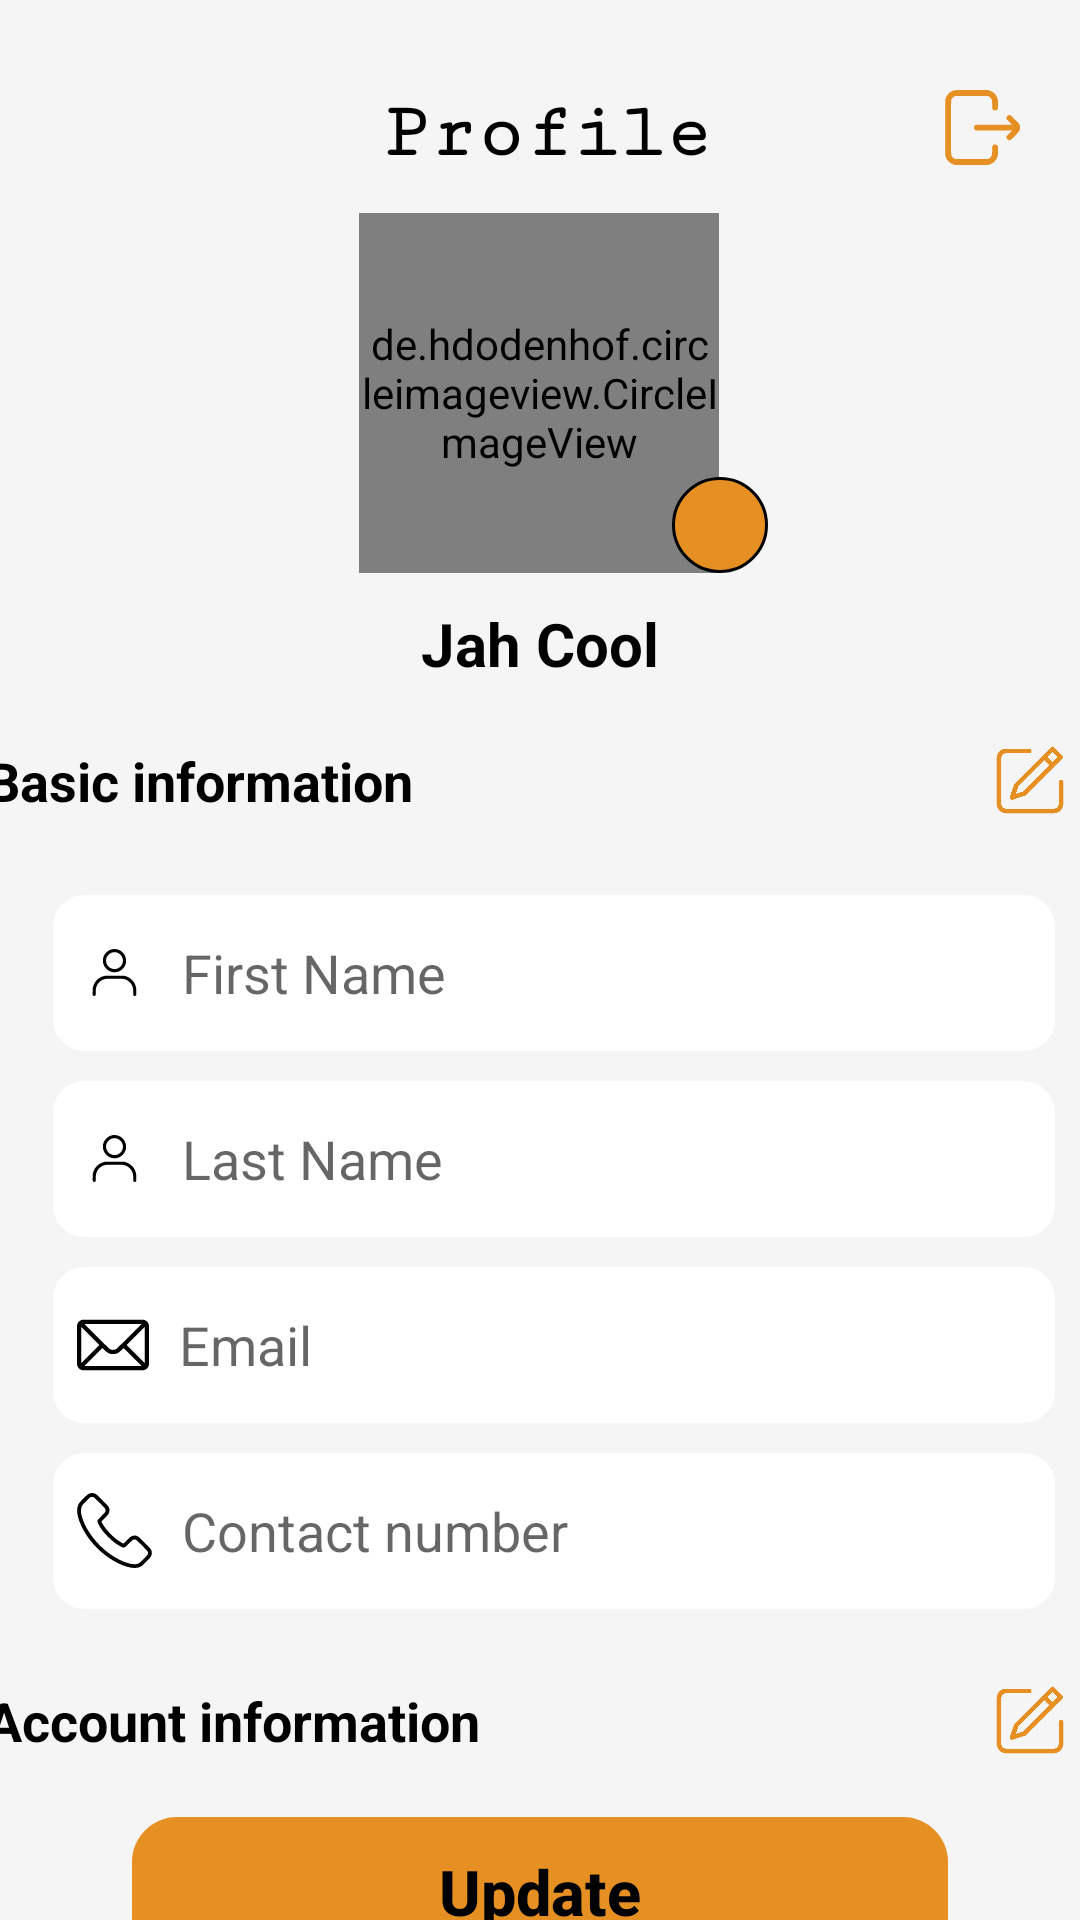

Locate icon controls on the screen. Image size 1080 x 1920, boxes as Rect(x1, y1, x2, y2).
editprofnew: Rect(996, 746, 1064, 814), Rect(996, 1686, 1064, 1754)
exit: Rect(945, 90, 1020, 165)
